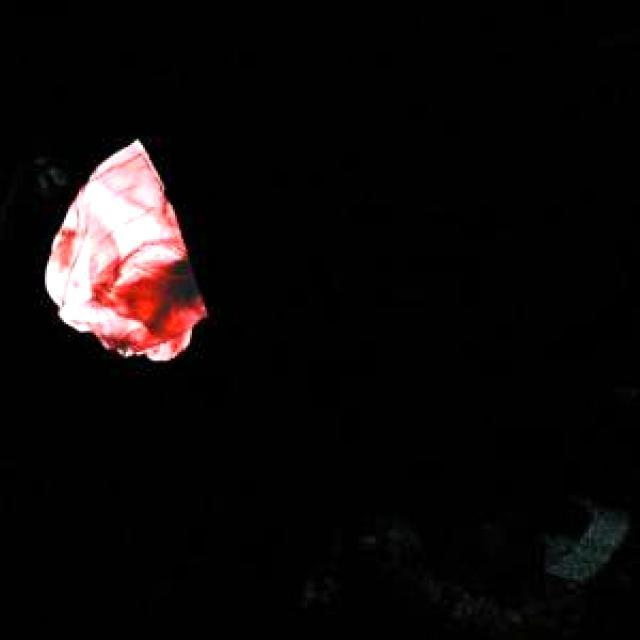Plastic_Bag: (44, 138, 204, 358)
